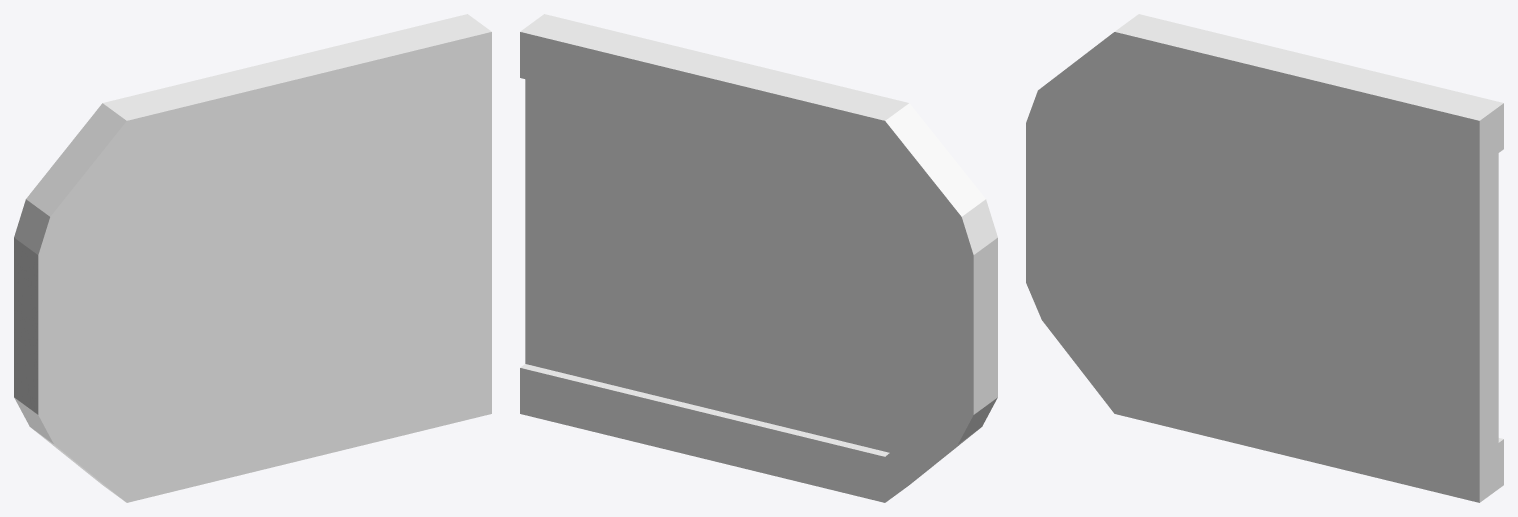
The model's file is venice_road_15.fbx.
3 renders of one model, left to right at view 1: azimuth 30°, elevation 25°; view 2: azimuth 150°, elevation 25°; view 3: azimuth 330°, elevation 25°, orthographic.
Parts seen in each view (by area): view 1: Cube.302; view 2: Cube.302; view 3: Cube.302.
Boxes of the visible parts, bbox=[...] form: Cube.302: bbox=[14, 14, 491, 502]; Cube.302: bbox=[520, 14, 997, 502]; Cube.302: bbox=[1026, 14, 1503, 502].
Size of the model in its own units: 684 by 550 by 63.5.
